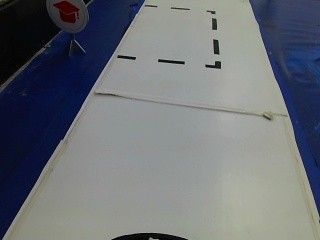school: (48, 0, 91, 33)
